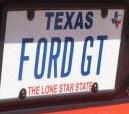D: (60, 36, 75, 78)
F: (17, 36, 35, 82)
G: (80, 35, 94, 76)
O: (34, 36, 48, 81)
R: (47, 36, 61, 79)
T: (95, 34, 108, 75)
